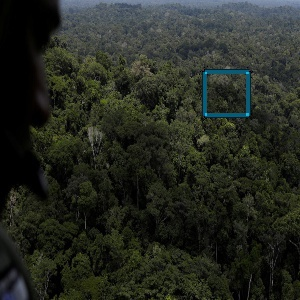square: (201, 68, 251, 118)
